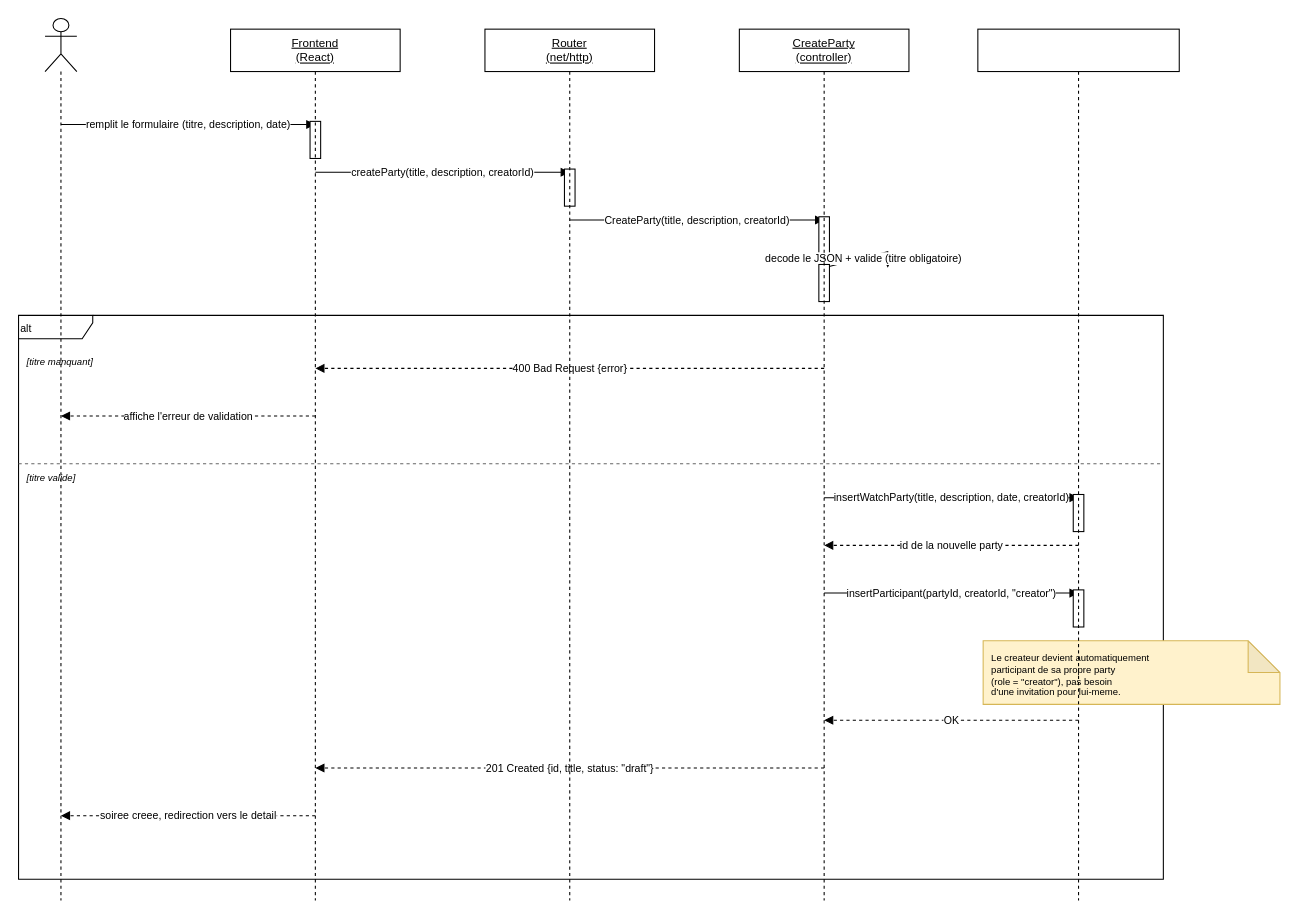
This 1298x920 diagram has some shape labels left out. The shapes that lost their labels are listed below. From the top down, each one's centre as x and y in pixels, then its label:
(60,44): Utilisateur connecte
(1078,50): MySQL (watch_parties, participants)
